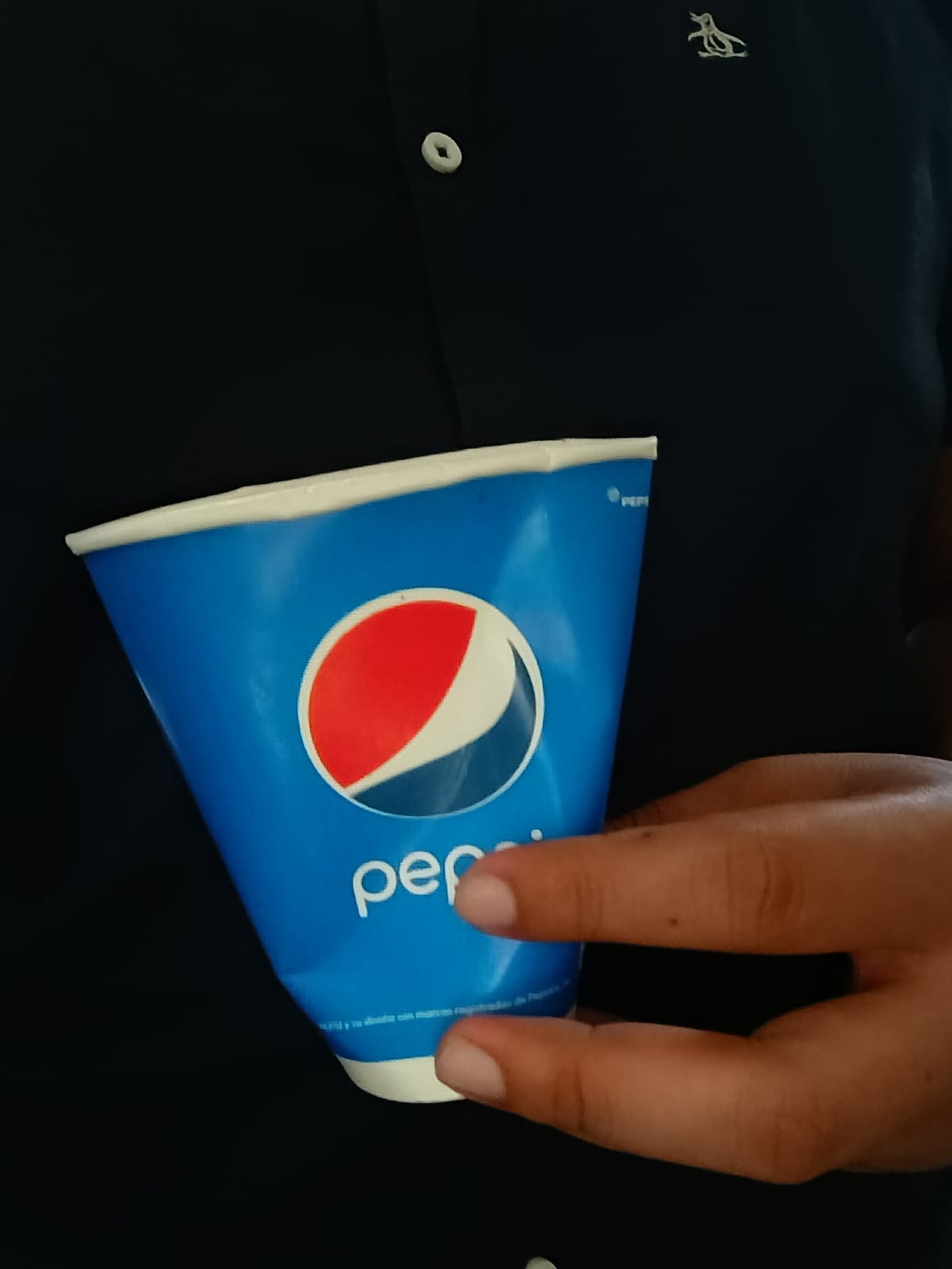Carton: (64, 430, 660, 1103)
